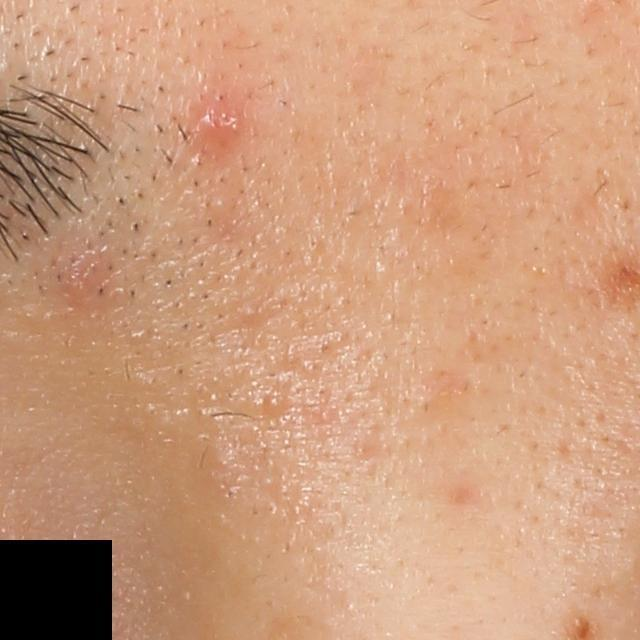comedo: (258, 390, 287, 417)
papule: (188, 91, 248, 150), (51, 248, 110, 305)
